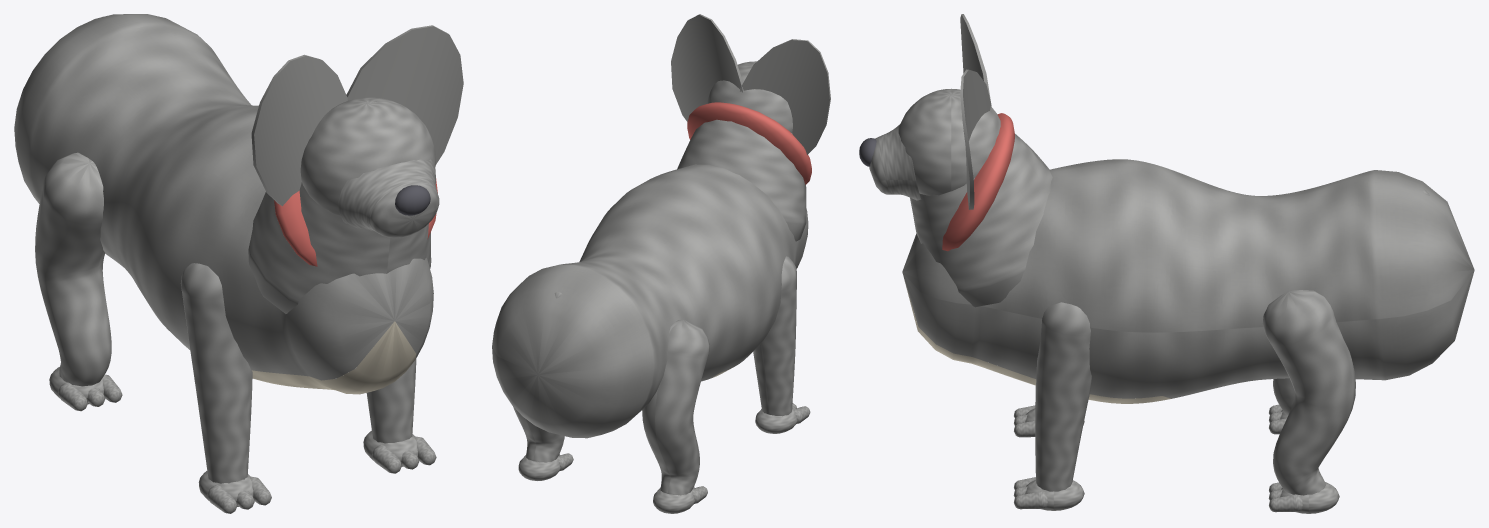
File: pets-and-companions-hd-french-bulldog-84dd37d4__28132.glb
3 renders of one model, left to right at view 1: azimuth 30°, elevation 25°; view 2: azimuth 150°, elevation 25°; view 3: azimuth 270°, elevation 25°, orthographic. The views are drawn at different scales.
Parts seen in each view (by area): view 1: french-bulldog; view 2: french-bulldog; view 3: french-bulldog.
Boxes of the visible parts, x1,y1,x2,y2 form: french-bulldog: (14, 14, 463, 513); french-bulldog: (492, 14, 830, 513); french-bulldog: (859, 14, 1474, 513).
Bounding box in the file's own units: 0.2281 × 0.4182 × 0.5473.
4 materials, 2 textured.
